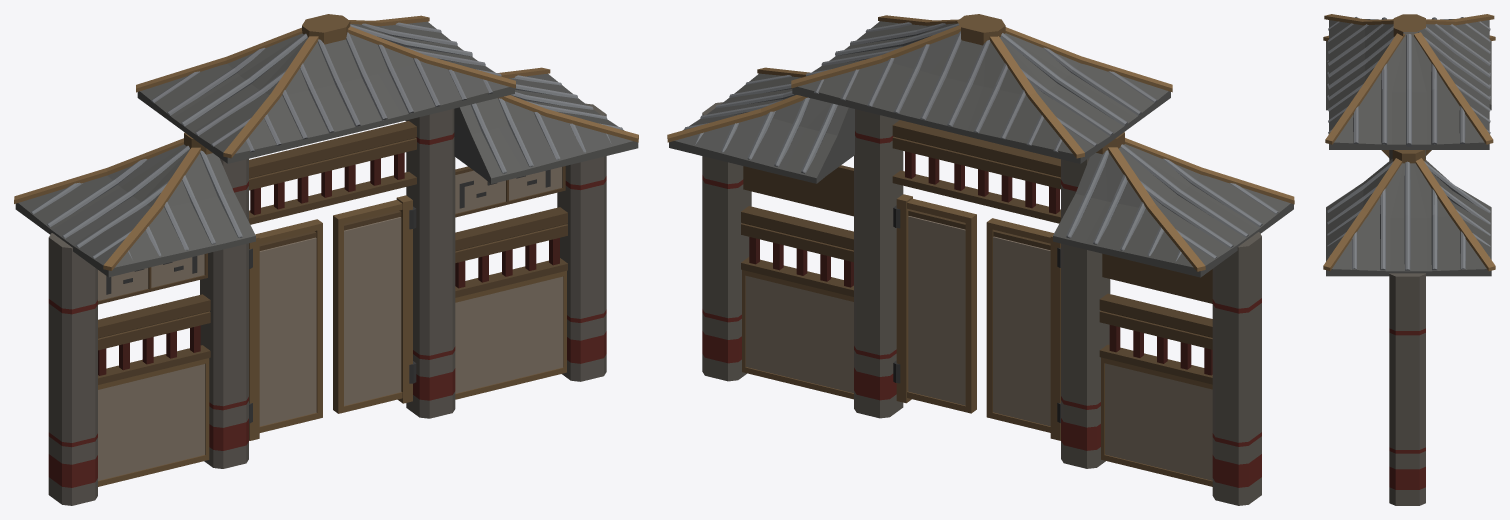
Rendered from Gate_1.fbx.
3 renders of one model, left to right at view 1: azimuth 30°, elevation 25°; view 2: azimuth 150°, elevation 25°; view 3: azimuth 270°, elevation 25°, orthographic. The views are drawn at different scales.
Parts seen in each view (by area): view 1: Gate_1, Gate'sDoor_1, Gate'sDoor_2; view 2: Gate_1, Gate'sDoor_1, Gate'sDoor_2; view 3: Gate_1.
Part boxes in pixels (x1,y1,x2,y2): Gate_1: (14, 14, 638, 505); Gate'sDoor_1: (333, 195, 412, 413); Gate'sDoor_2: (249, 219, 322, 440); Gate_1: (667, 14, 1294, 505); Gate'sDoor_1: (896, 194, 976, 413); Gate'sDoor_2: (986, 218, 1060, 440); Gate_1: (1323, 14, 1495, 505).
Bounding box in the file's own units: 898 × 645 × 277.
